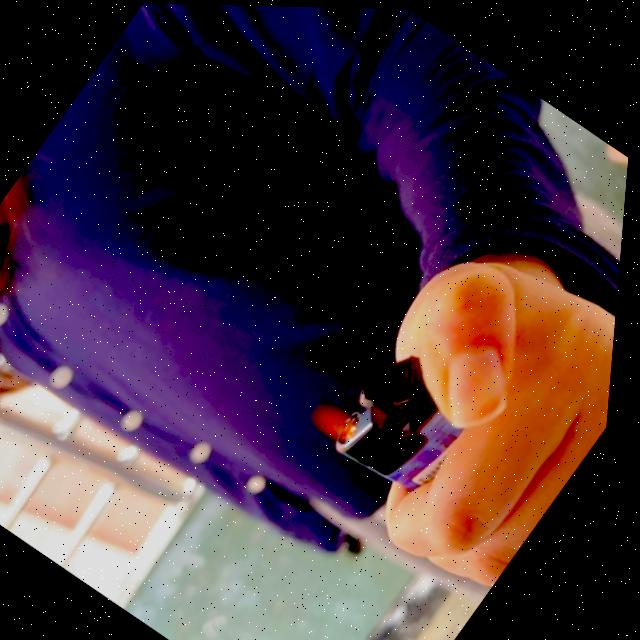Fire: (311, 391, 373, 444)
